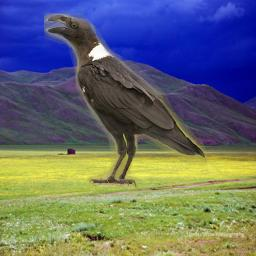Crow: (44, 13, 207, 187)
